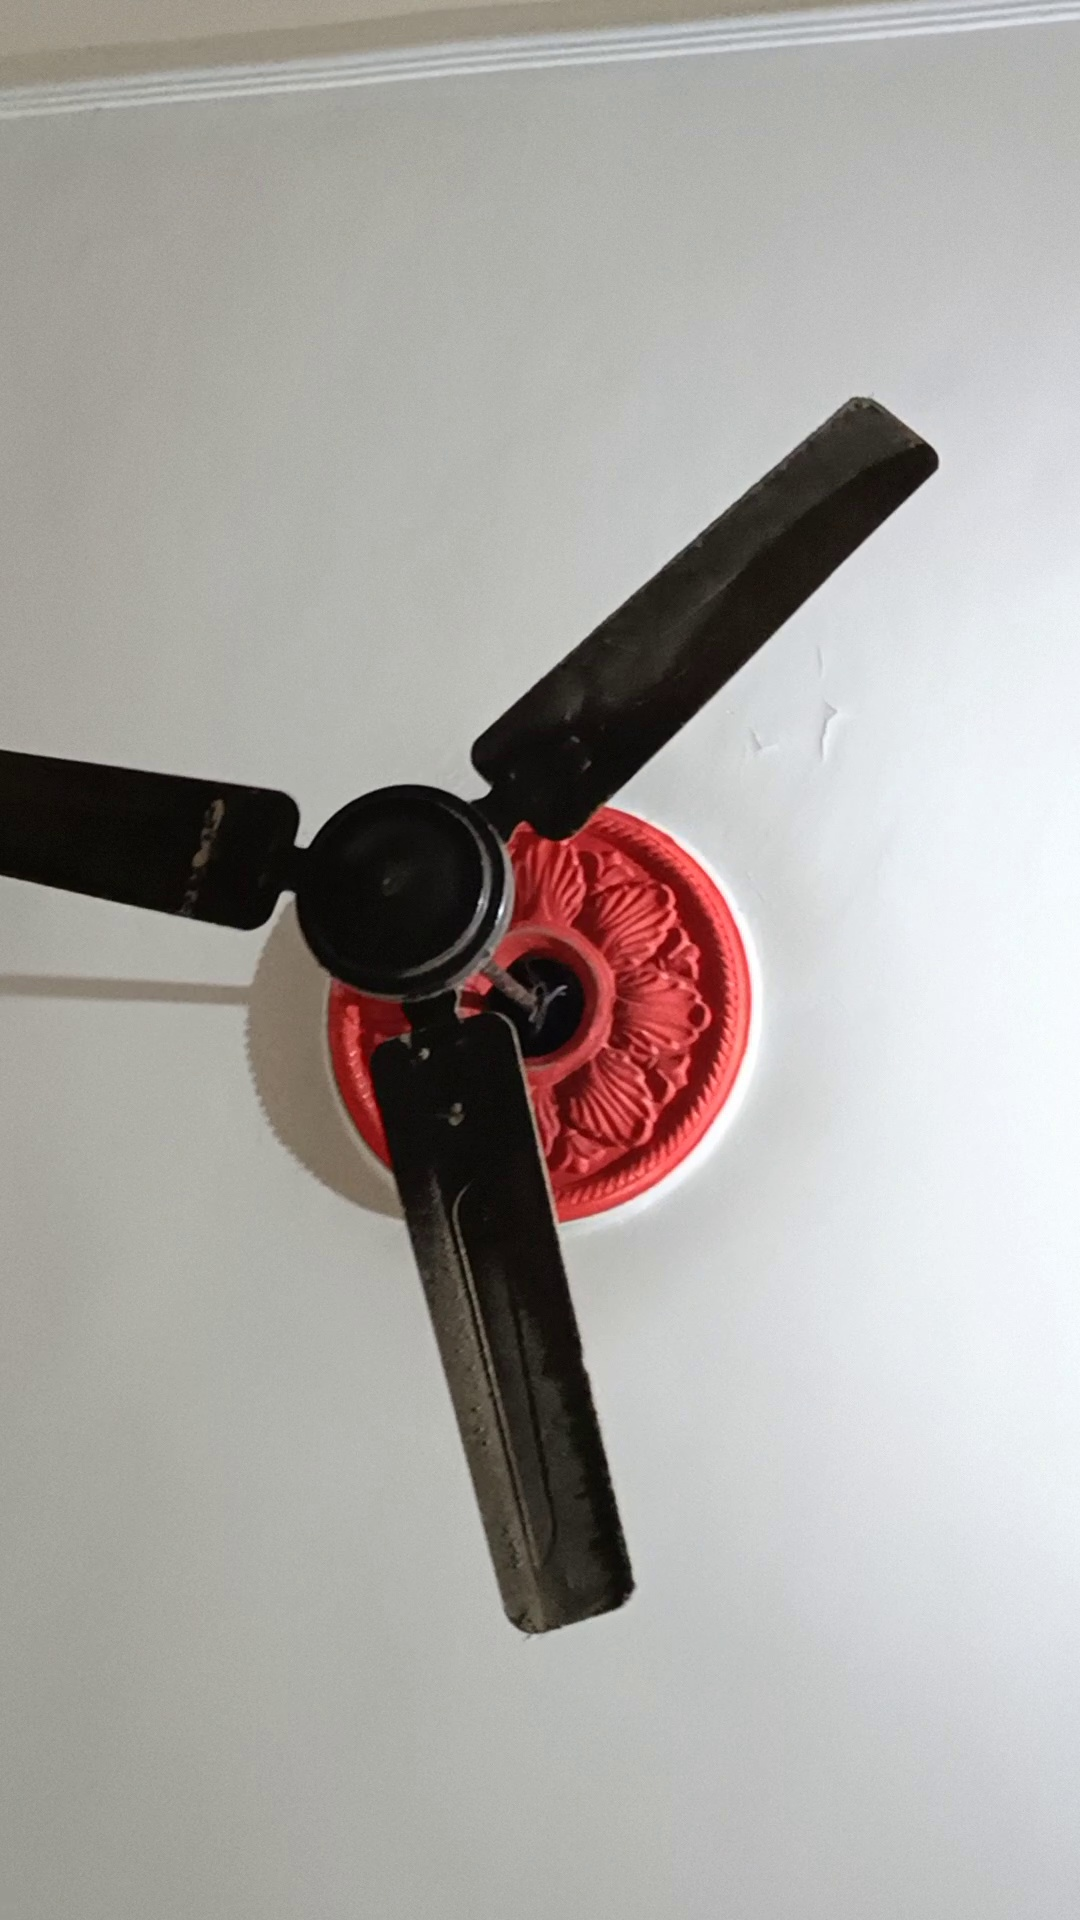fan: (1, 378, 969, 1665)
